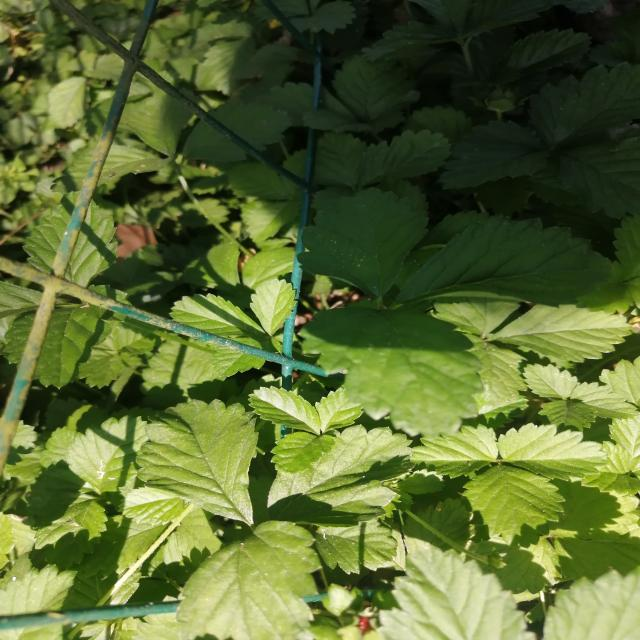Mock_strawberry: (28, 383, 342, 631), (426, 403, 614, 528)
